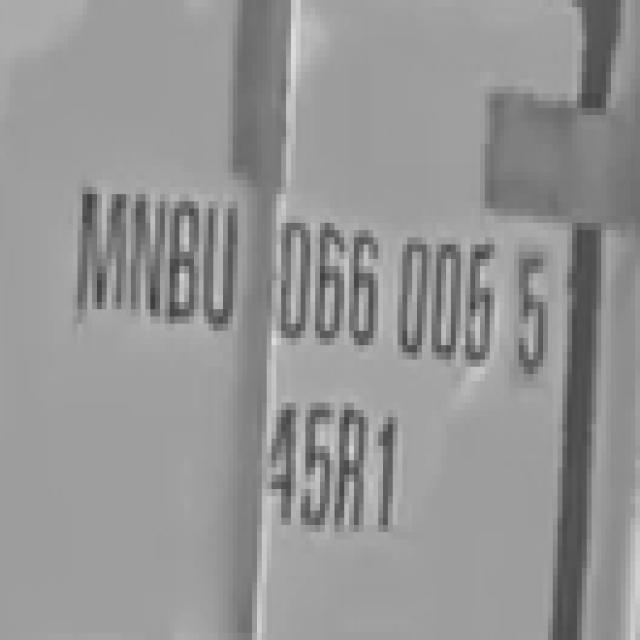dv: (505, 236, 551, 382)
owner: (66, 158, 236, 340)
serial: (270, 202, 499, 372)
size: (266, 387, 416, 546)
